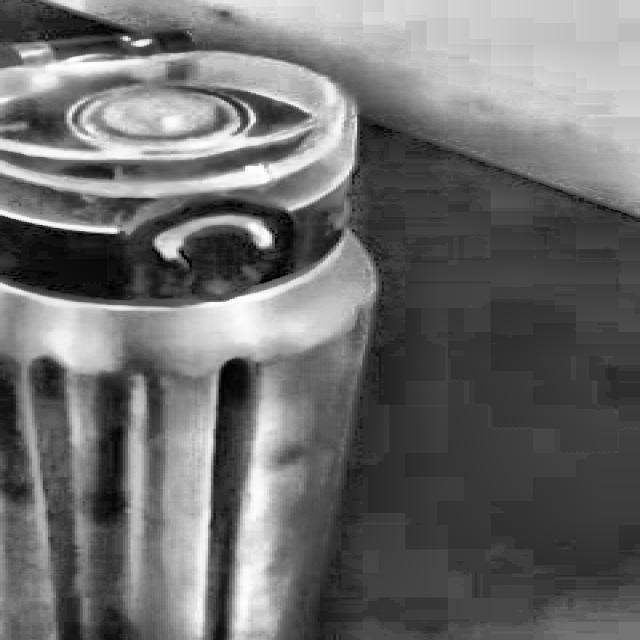bottle: (0, 38, 381, 640)
